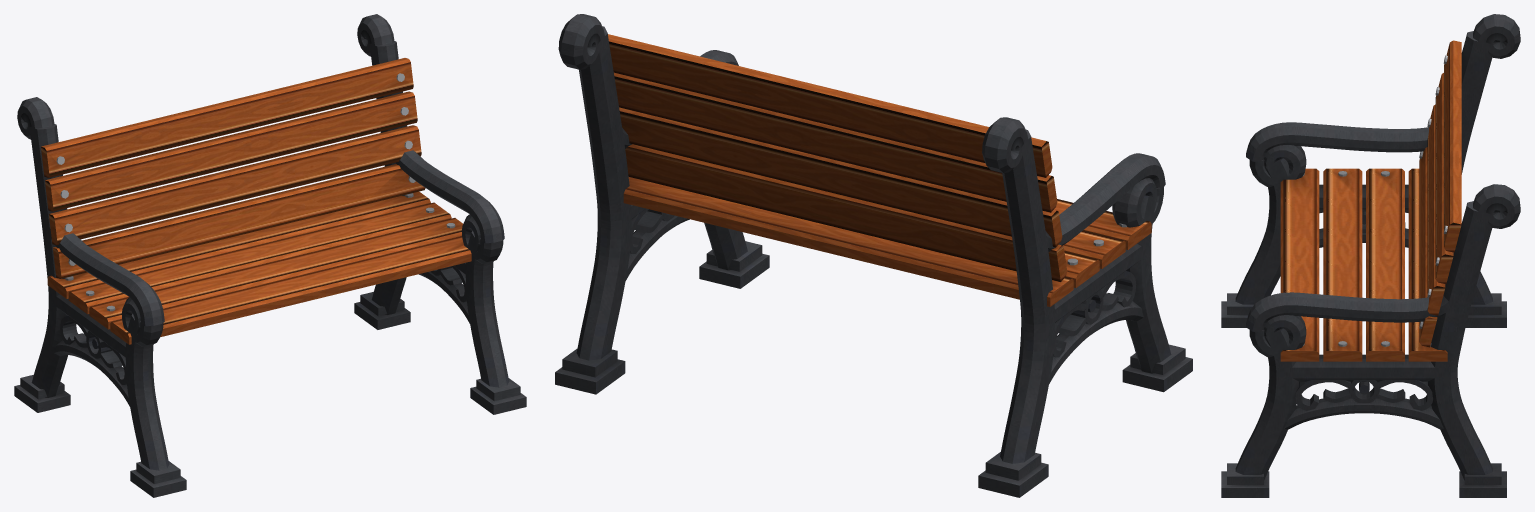
The model's file is houdini_park_bench.glb.
The picture shows the model from 3 angles, left to right: view 1: azimuth 30°, elevation 25°; view 2: azimuth 150°, elevation 25°; view 3: azimuth 270°, elevation 25°; orthographic projection. The views are drawn at different scales.
Visible parts, largest first — view 1: LOD0; view 2: LOD0; view 3: LOD0.
Part boxes in pixels (x1,y1,x2,y2): LOD0: (14, 14, 526, 497); LOD0: (555, 14, 1192, 497); LOD0: (1221, 14, 1520, 497).
Size of what is drawn, in the model's own units: 1.38 by 1.05 by 0.9359.
Materials: 3 (3 with a texture image).
